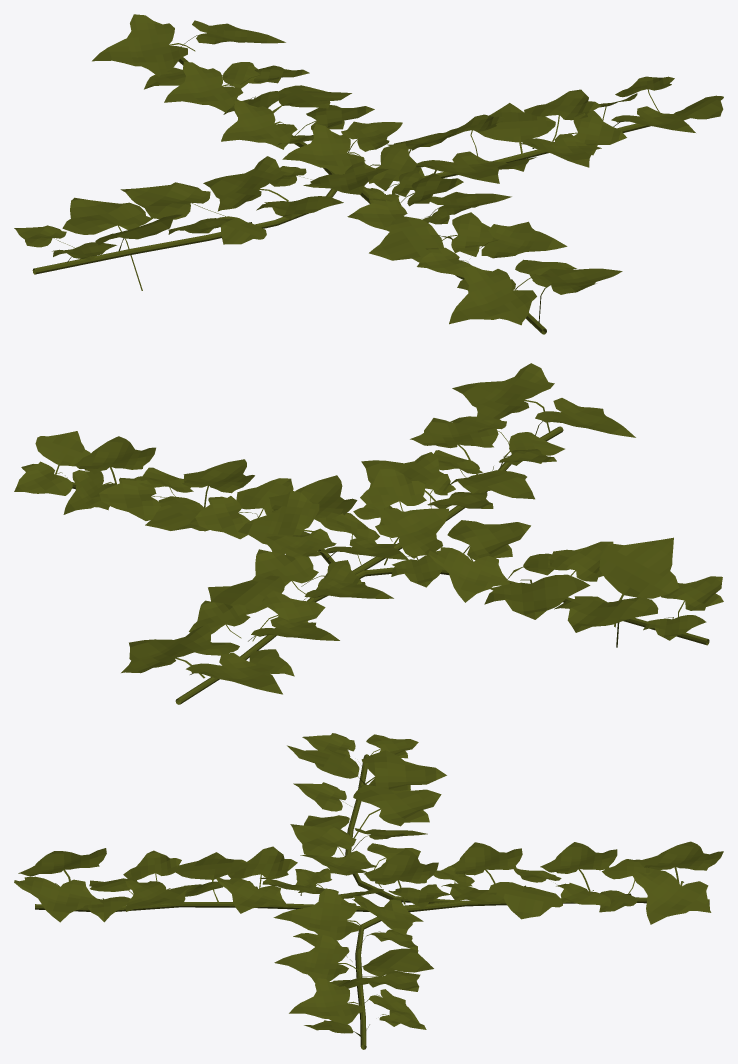
The model's file is crossIvy 1.fbx.
3 views of the same model, one above another, from view 1: azimuth 30°, elevation 25°; view 2: azimuth 150°, elevation 25°; view 3: azimuth 270°, elevation 25° (orthographic). The views are drawn at different scales.
Visible parts, largest first — view 1: 5d1ae7b5be2c2177040312.071; view 2: 5d1ae7b5be2c2177040312.071; view 3: 5d1ae7b5be2c2177040312.071.
Part boxes in pixels (x1,y1,x2,y2): 5d1ae7b5be2c2177040312.071: (14,14,723,334); 5d1ae7b5be2c2177040312.071: (14,363,723,704); 5d1ae7b5be2c2177040312.071: (14,733,723,1049).
Bounding box in the file's own units: 211 × 26.01 × 212.
